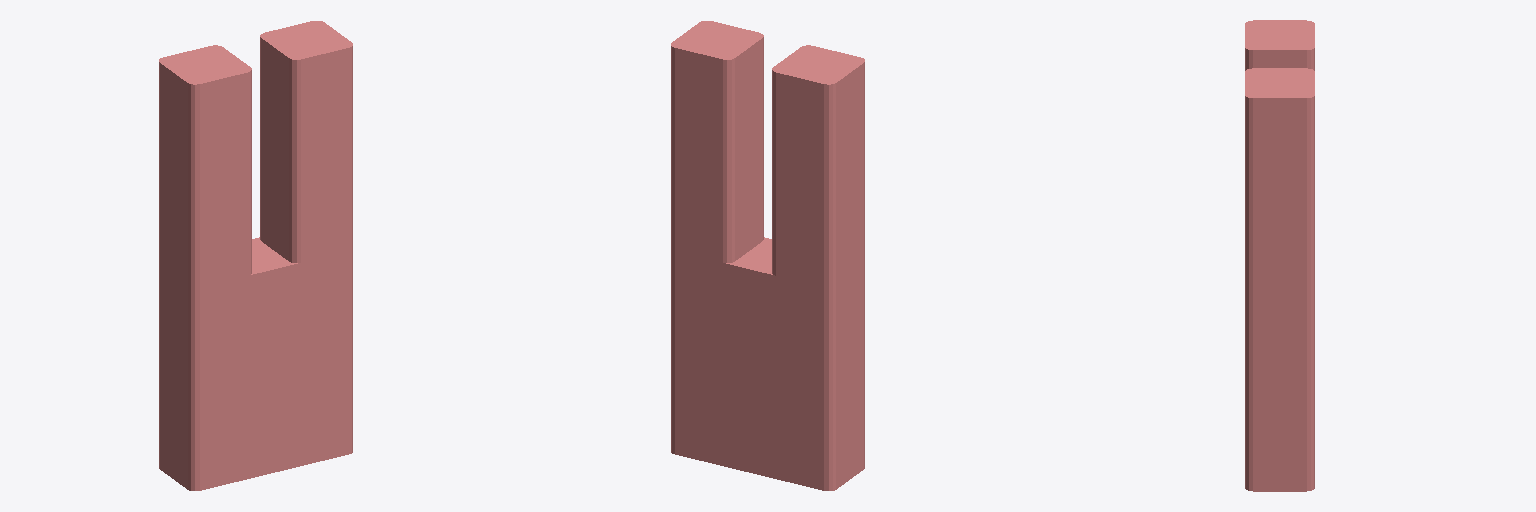
The robot description file, URDF, robot "Large_Long_DoubleSquare_JeansRed":
<?xml version="1.0"?>
<robot name="Large_Long_DoubleSquare_JeansRed">
    <link name="Large_Long_DoubleSquare_JeansRed">
        <visual>
            <geometry>
                <mesh filename="../mesh/factory_insertion/Large_Long_DoubleSquare_JeansRed.obj" scale="0.001 0.001 0.001"/>
            </geometry>
            <material name="JeansRed">
              <color rgba="0.91 0.6 0.6 0"/>
            </material>
        </visual>
        <collision>
            <geometry>
                <mesh filename="../mesh/factory_insertion/Large_Long_DoubleSquare_JeansRed.obj" scale="0.001 0.001 0.001"/>
            </geometry>
            <sdf resolution="512"/>
        </collision>
    </link>
</robot>

--- Render facts (derived) ---
3 views of the same robot in one strip: view 1: azimuth 30°, elevation 25°; view 2: azimuth 150°, elevation 25°; view 3: azimuth 270°, elevation 25° (orthographic).
Model Large_Long_DoubleSquare_JeansRed with 1 links and 0 joints (none), rooted at Large_Long_DoubleSquare_JeansRed, posed all joints at 0.
Links seen in each view (by area): view 1: Large_Long_DoubleSquare_JeansRed; view 2: Large_Long_DoubleSquare_JeansRed; view 3: Large_Long_DoubleSquare_JeansRed.
Boxes of the visible links, left/top/right/bottom form: Large_Long_DoubleSquare_JeansRed: left=159, top=21, right=352, bottom=490; Large_Long_DoubleSquare_JeansRed: left=671, top=21, right=864, bottom=490; Large_Long_DoubleSquare_JeansRed: left=1245, top=20, right=1314, bottom=491.
Size in the robot's own frame: 0.0636 by 0.0245 by 0.15 metres.
1 mesh visuals loaded from 1 distinct referenced files (1 OBJ).
